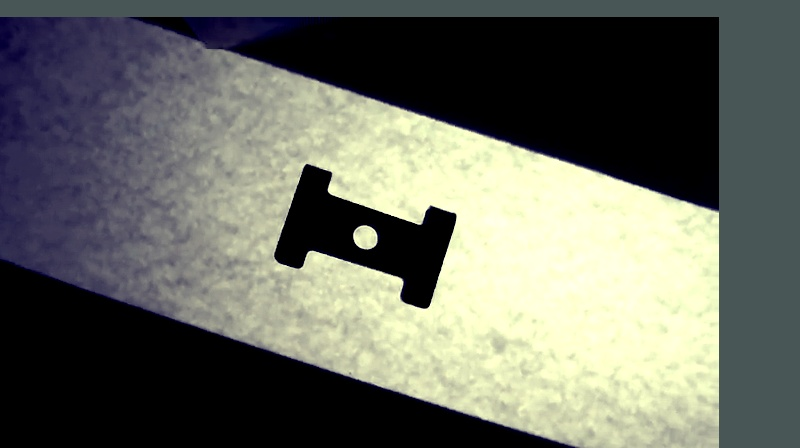O002: (268, 162, 458, 310)
